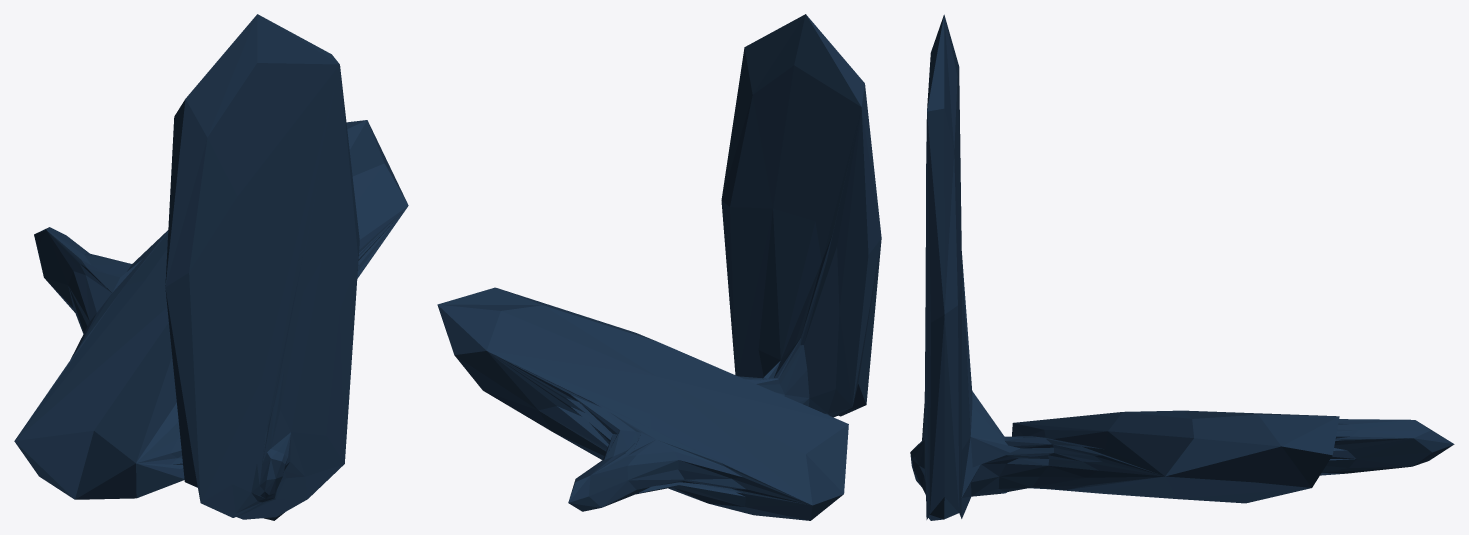
3 renders of one model, left to right at view 1: azimuth 30°, elevation 25°; view 2: azimuth 150°, elevation 25°; view 3: azimuth 270°, elevation 25°, orthographic. The views are drawn at different scales.
Visible parts, largest first — view 1: 723_Cube.2902; view 2: 723_Cube.2902; view 3: 723_Cube.2902.
Boxes of the visible parts, x1,y1,x2,y2 form: 723_Cube.2902: (14, 14, 408, 520); 723_Cube.2902: (437, 14, 881, 520); 723_Cube.2902: (910, 14, 1454, 520).
Size of the model in its own units: 10.2 by 12.33 by 11.92.
